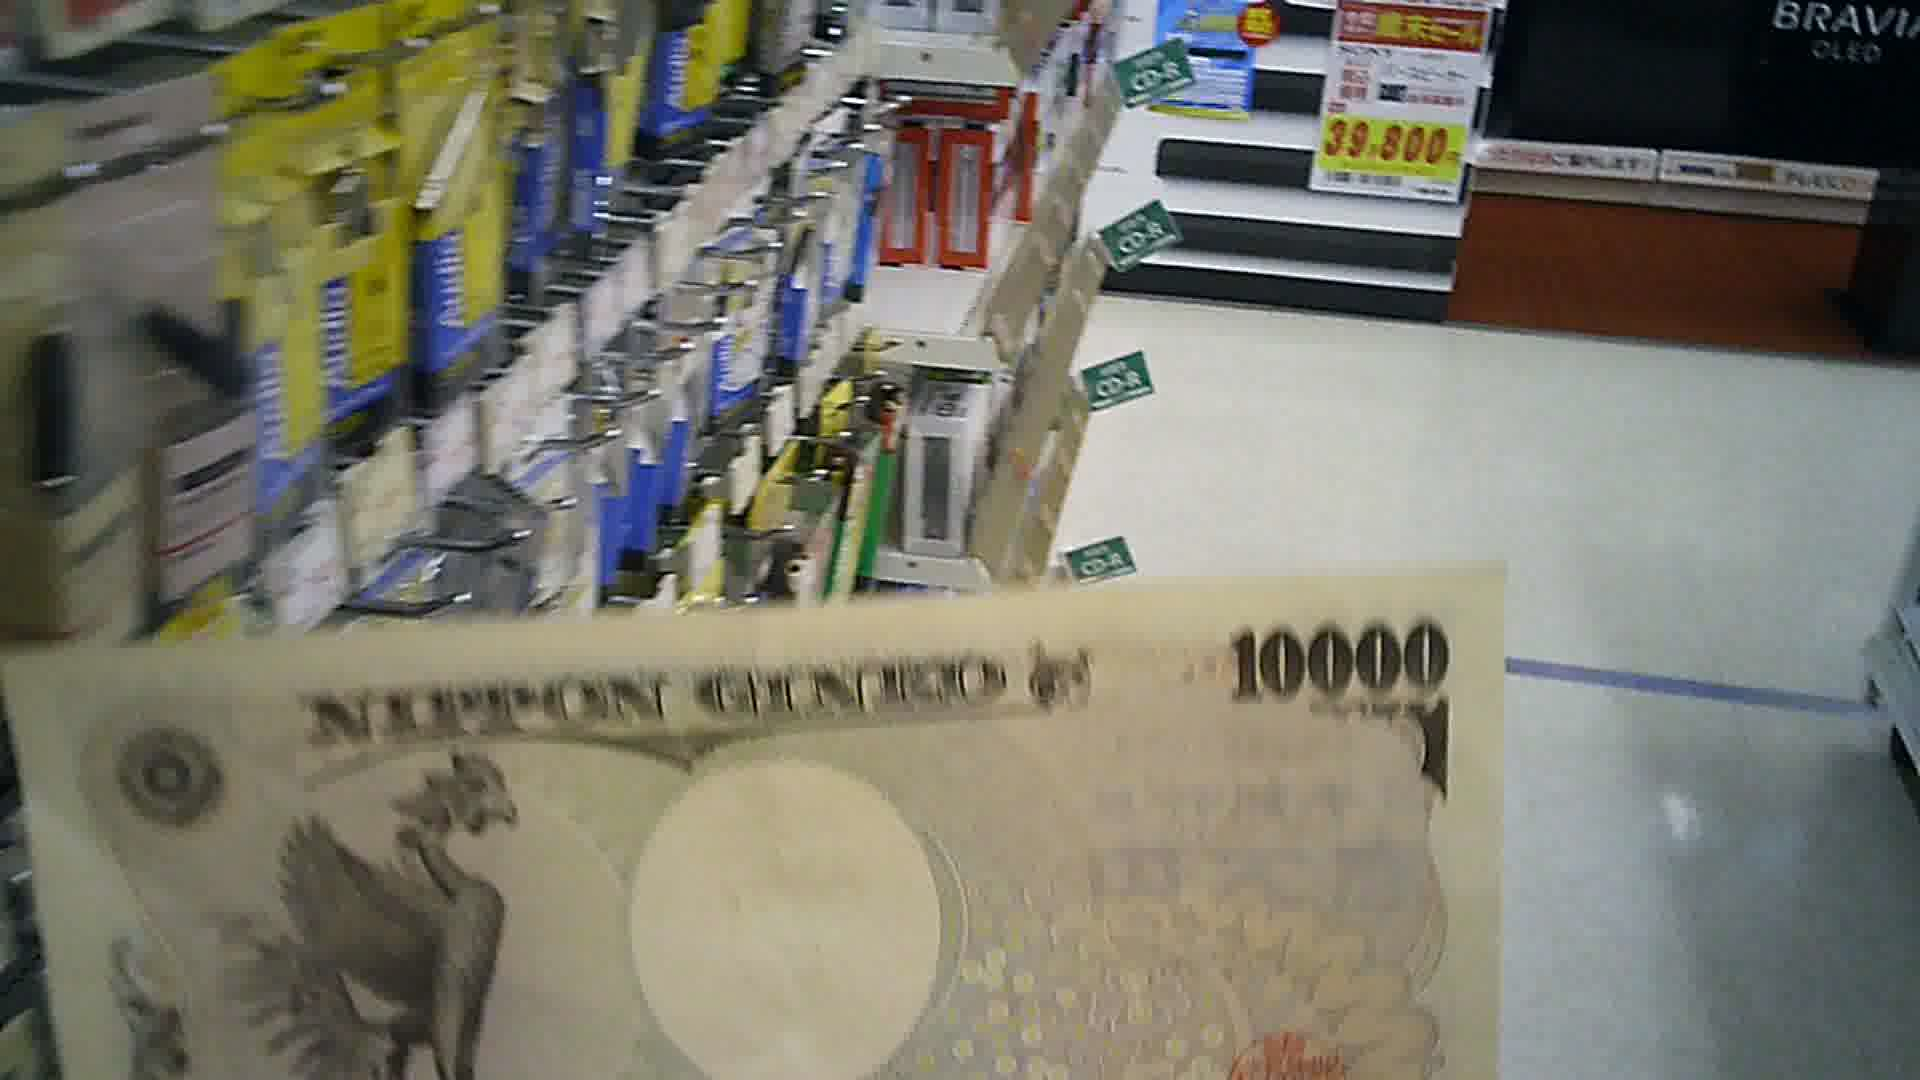10,000 Yen: (18, 567, 1524, 1067)
